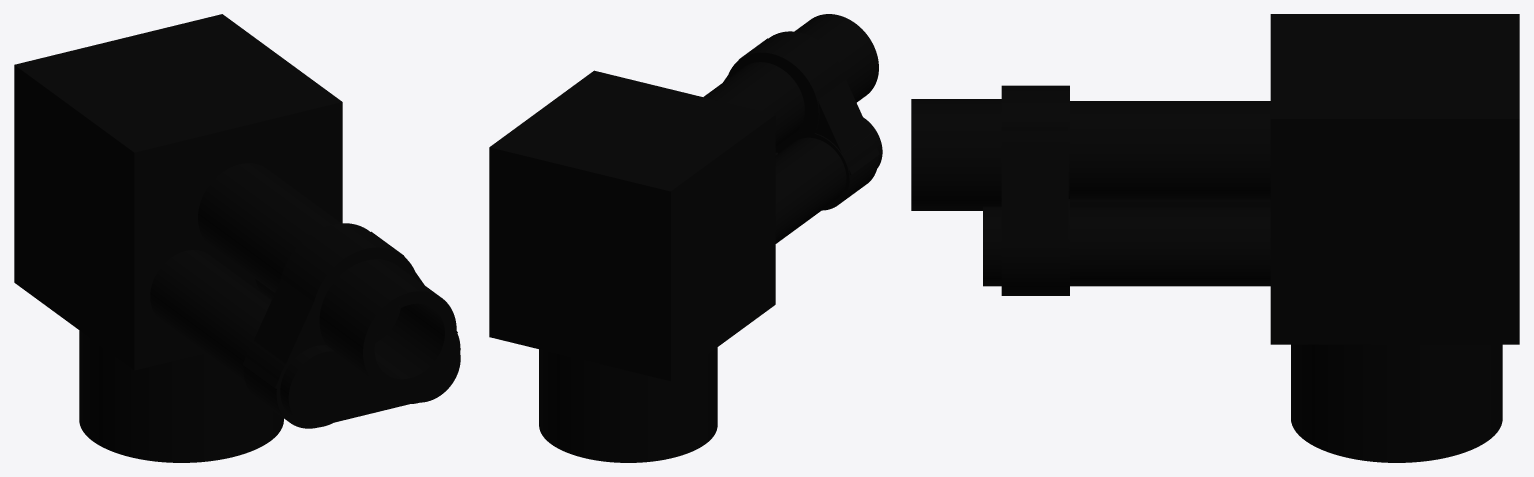
File: SimpleCannon.fbx
3 views of the same model, side by side, from view 1: azimuth 30°, elevation 25°; view 2: azimuth 150°, elevation 25°; view 3: azimuth 270°, elevation 25° (orthographic). The views are drawn at different scales.
Visible parts, largest first — view 1: node_id128 (×5), root, node_id83, node_id99, node_id102, node_id84; view 2: node_id128 (×4), root, node_id83, node_id99, node_id102; view 3: node_id128 (×4), root, node_id84, node_id98, node_id101, node_id83.
Boxes of the visible parts, bbox=[...] form: node_id128 (×5): bbox=[14, 14, 456, 427]; root: bbox=[79, 330, 283, 462]; node_id83: bbox=[150, 250, 359, 427]; node_id99: bbox=[243, 279, 333, 388]; node_id102: bbox=[243, 337, 359, 428]; node_id84: bbox=[255, 279, 460, 402]; node_id128 (×4): bbox=[489, 14, 878, 381]; root: bbox=[539, 347, 717, 462]; node_id83: bbox=[775, 117, 882, 243]; node_id99: bbox=[815, 79, 879, 175]; node_id102: bbox=[778, 132, 878, 210]; node_id128 (×4): bbox=[911, 14, 1519, 344]; root: bbox=[1291, 344, 1502, 462]; node_id84: bbox=[983, 206, 1270, 286]; node_id98: bbox=[1001, 127, 1068, 248]; node_id101: bbox=[1001, 199, 1069, 295]; node_id83: bbox=[1070, 200, 1270, 206].
Bounding box in the file's own units: 0.1173 × 0.182 × 0.2869.
Materials: 13 (13 with a texture image).
